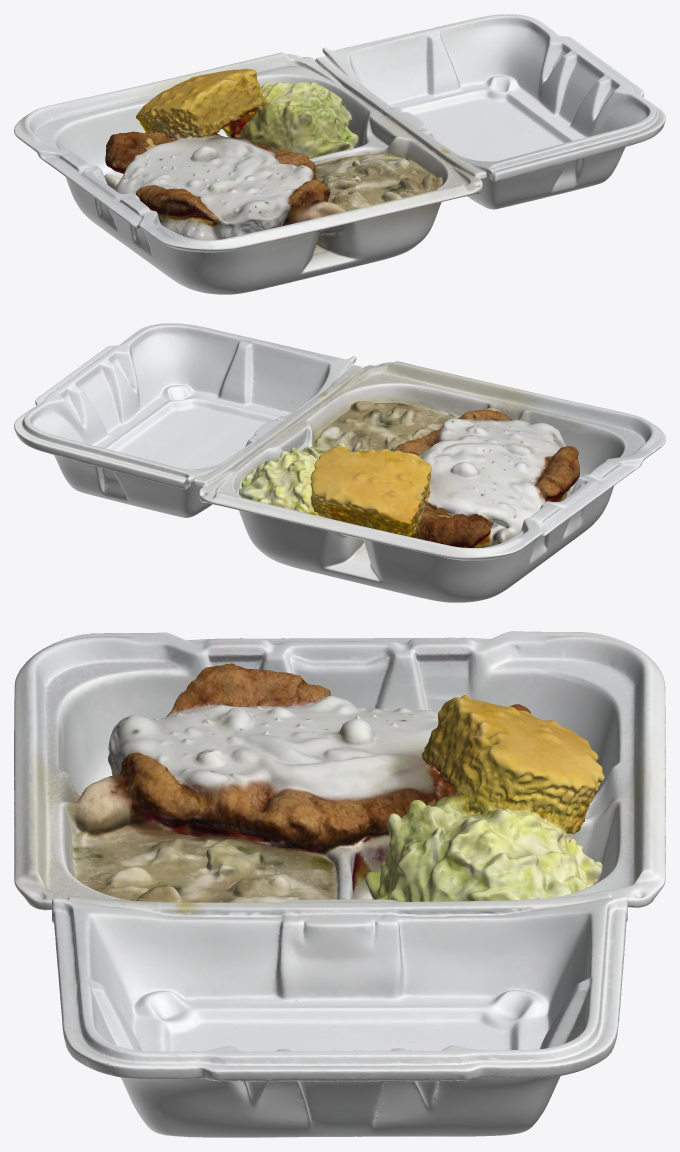
3 renders of one model, top to bottom at view 1: azimuth 30°, elevation 25°; view 2: azimuth 150°, elevation 25°; view 3: azimuth 270°, elevation 25°, orthographic. The views are drawn at different scales.
Size of the model in its own units: 1.9 by 0.3858 by 1.2.
1 material, 1 textured.
